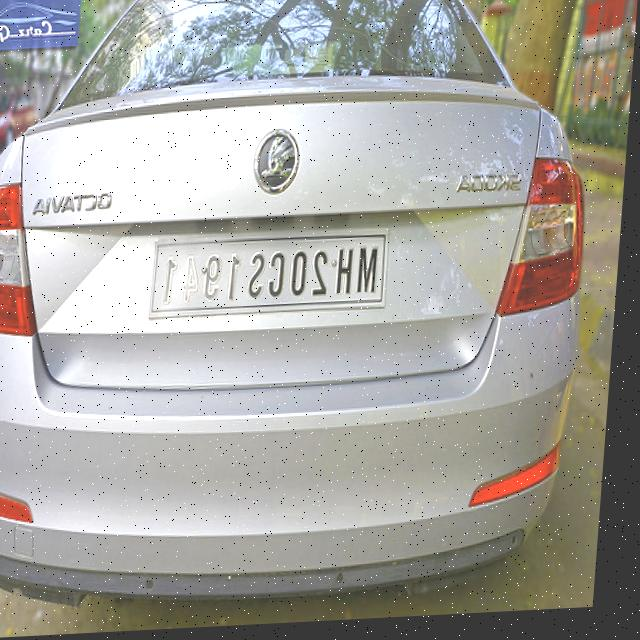plate: (153, 229, 397, 321)
